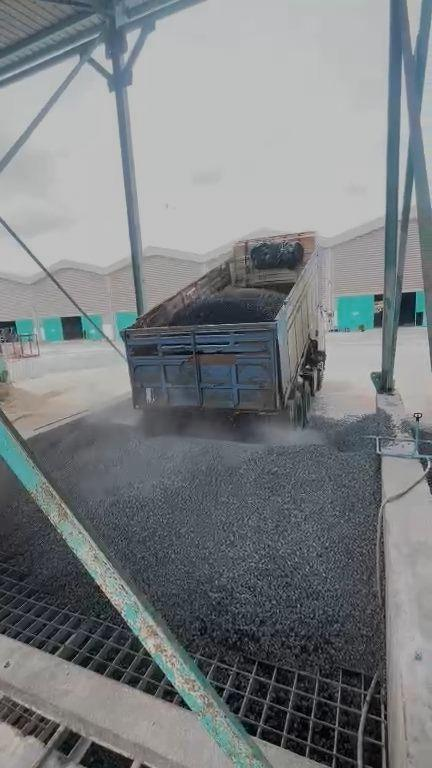gravel: (33, 397, 394, 674), (1, 468, 111, 616), (170, 288, 286, 324), (419, 419, 432, 493)
sand: (1, 384, 87, 430)
